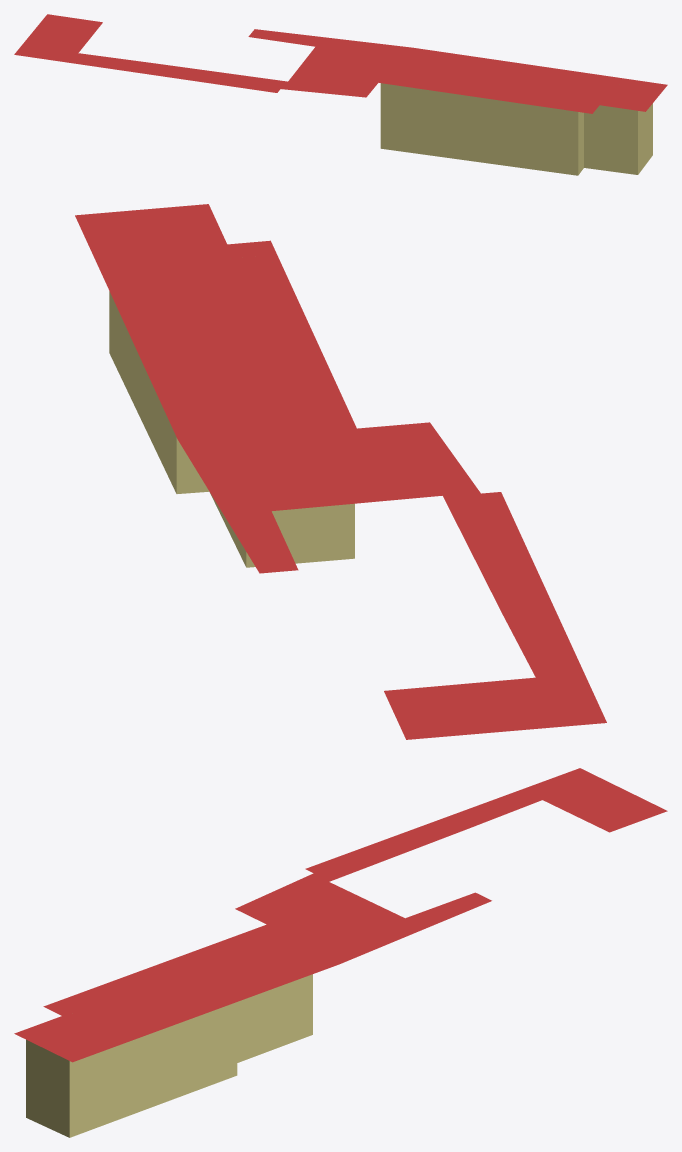
The picture shows the model from 3 angles, top to bottom: view 1: azimuth 30°, elevation 25°; view 2: azimuth 150°, elevation 25°; view 3: azimuth 270°, elevation 25°; orthographic projection. The views are drawn at different scales.
Bounding box in the file's own units: 46.27 × 43.51 × 6.34.
